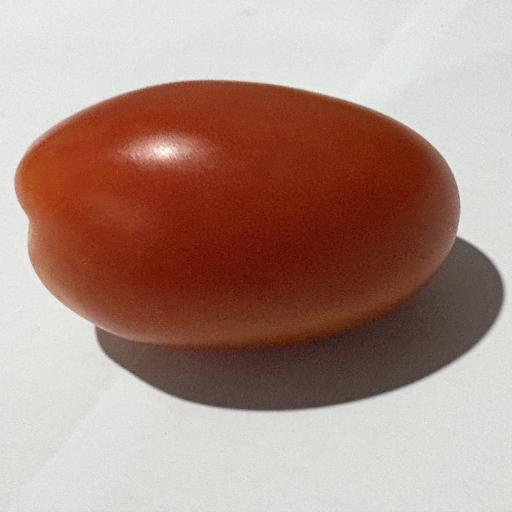ripe: (16, 81, 460, 348)
